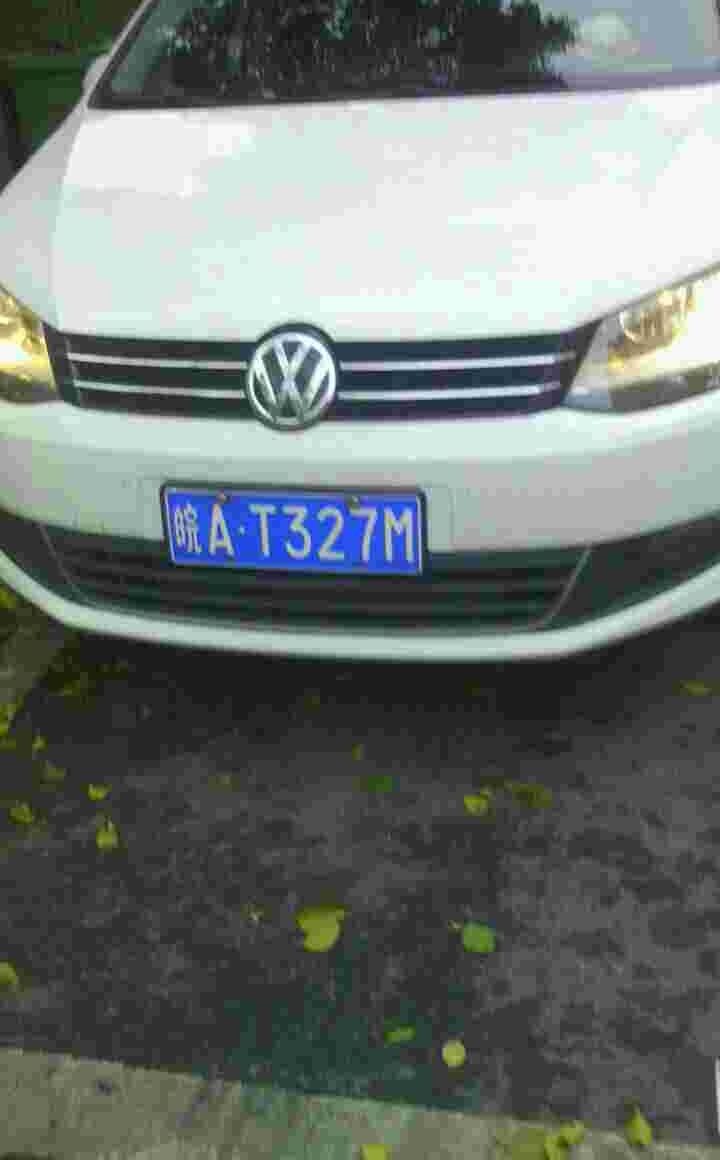plate: (163, 485, 427, 578)
